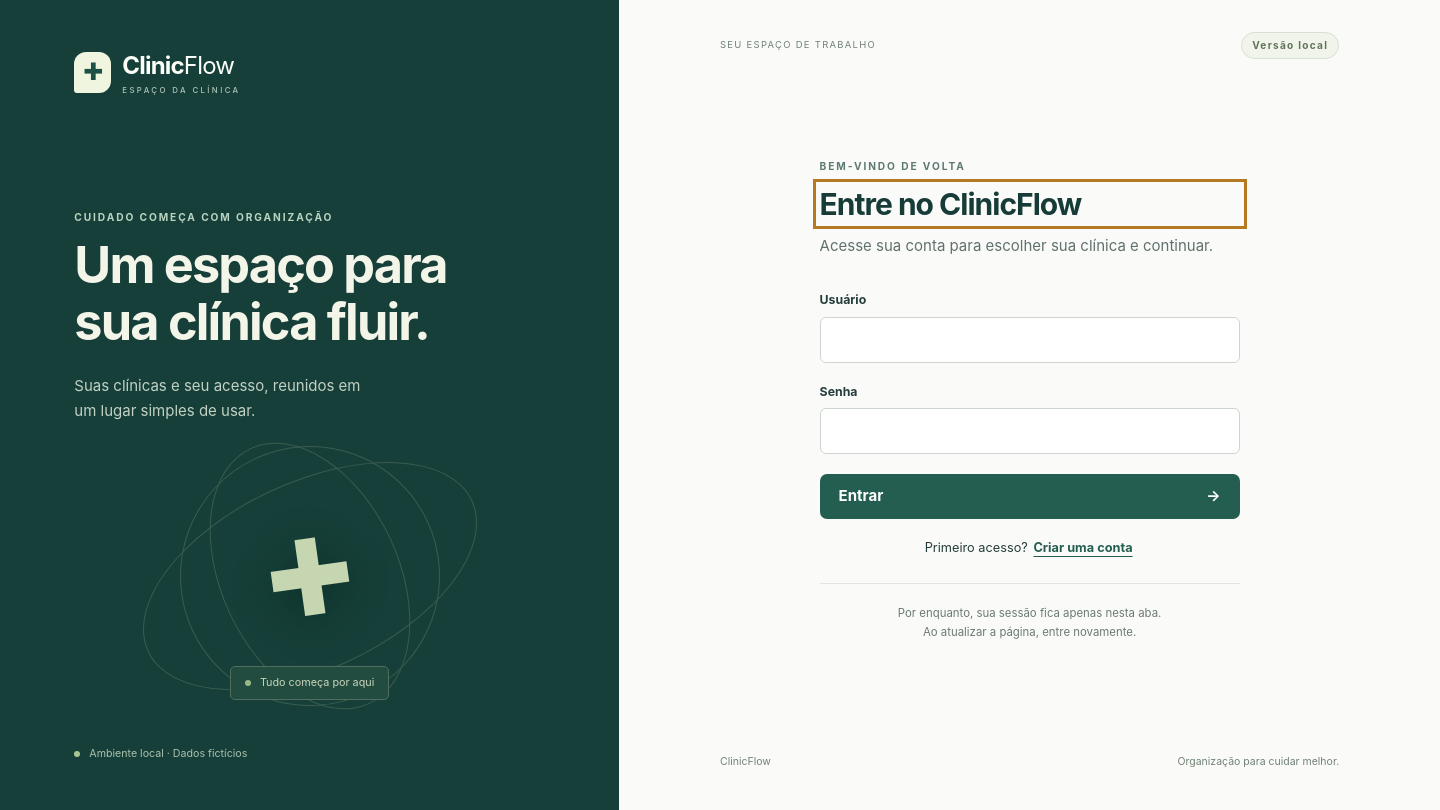
Test: authentication and session boundaries › logs in through token then me and sends opaque Bearer authentication only to protected endpoints
The image size is (1440, 810).
Type "synthetic" into the field labelled "Usuário" at (1030, 340), box x1=820 y1=317 x2=1240 y2=363
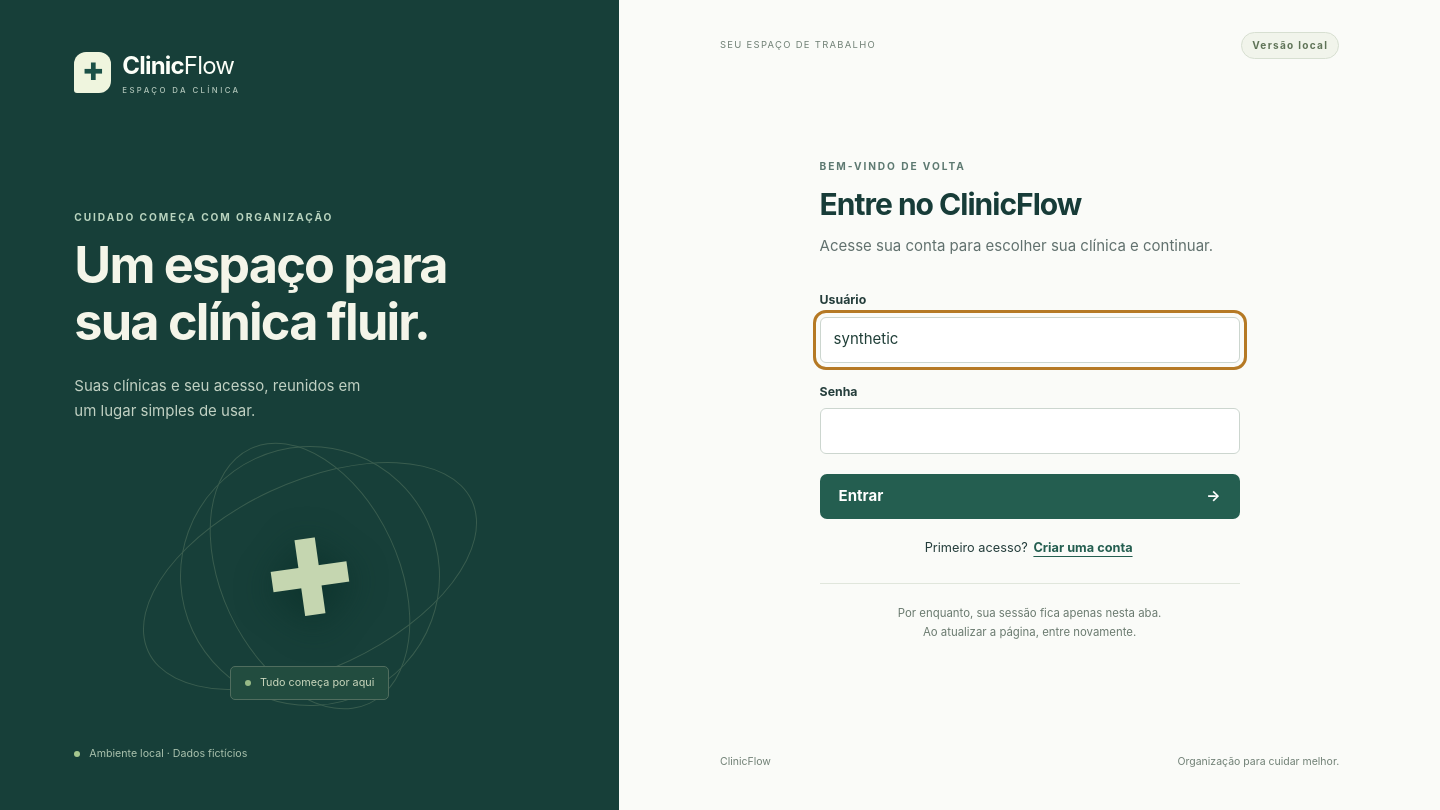
Type "Fictitious-Password-936!" into the password field labelled "Senha" at (1030, 431), box x1=820 y1=408 x2=1240 y2=454
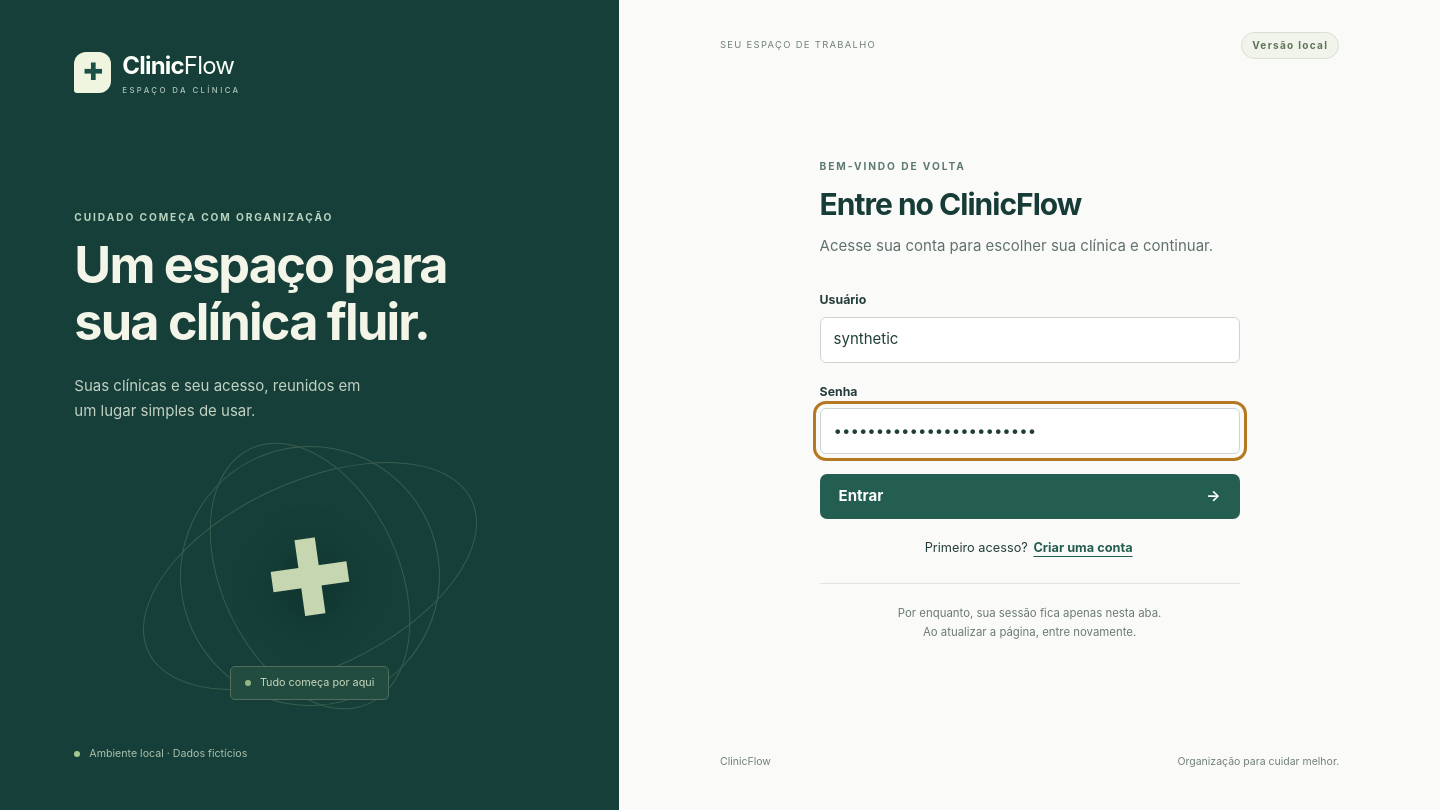
Click the button "Entrar →" at (861, 496), box x1=820 y1=474 x2=1240 y2=519
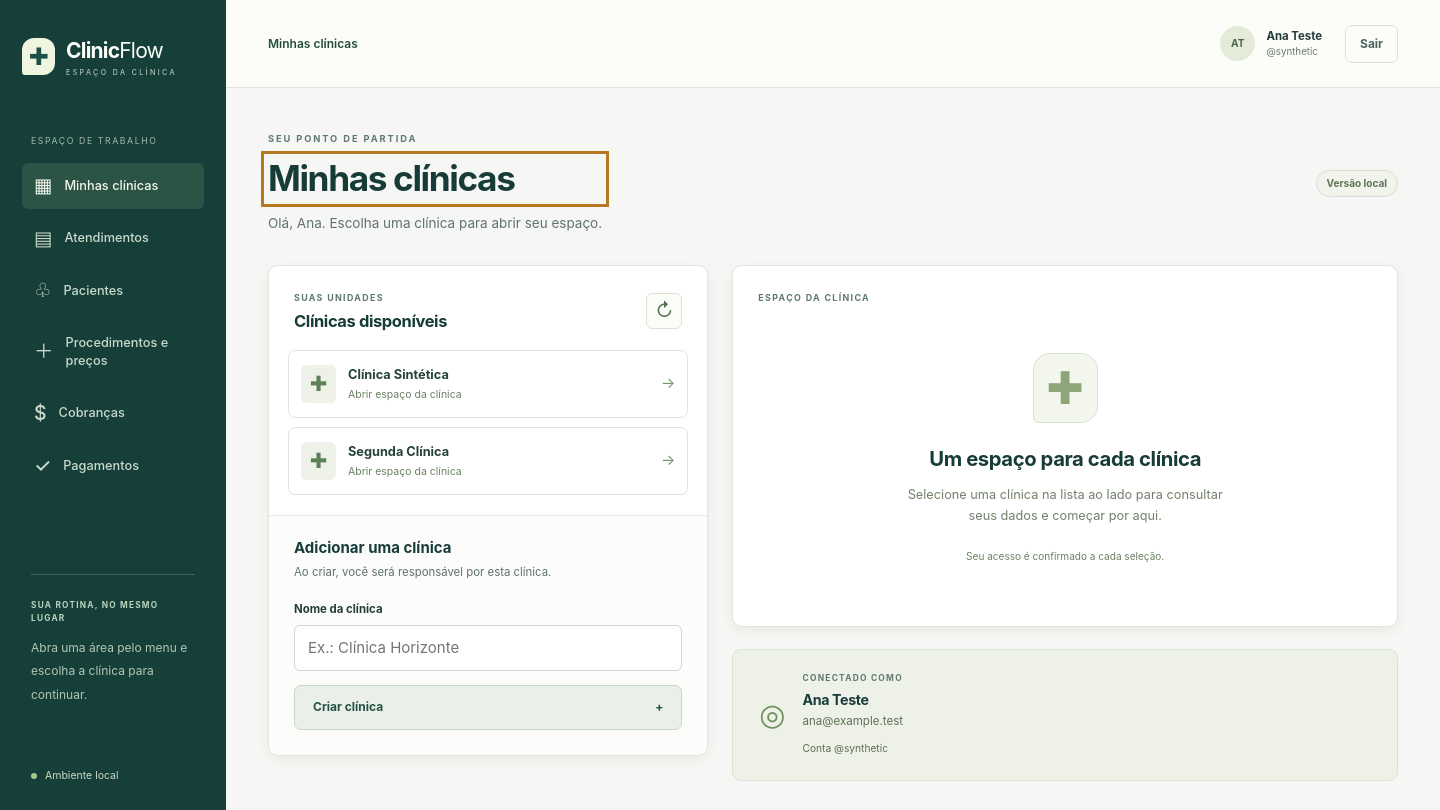
Result: the heading "Minhas clínicas" is shown at x1=268 y1=157 x2=514 y2=200
Result: the text "ana@example.test" is shown at x1=802 y1=712 x2=903 y2=732
